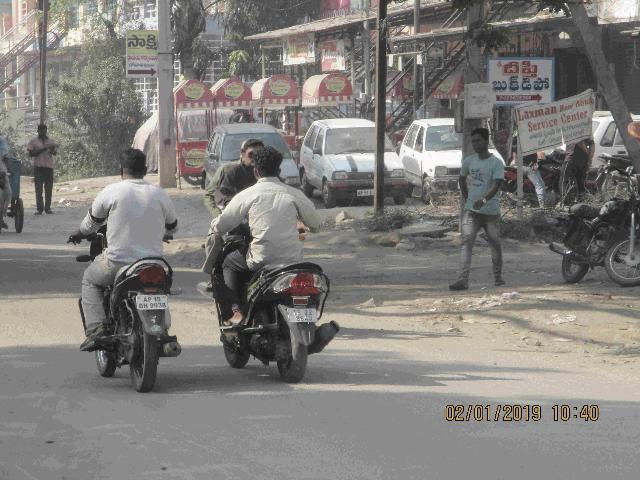motor: (210, 245, 340, 384), (110, 259, 183, 393), (552, 203, 640, 286)
non-helm: (255, 148, 284, 181), (120, 149, 148, 180)
